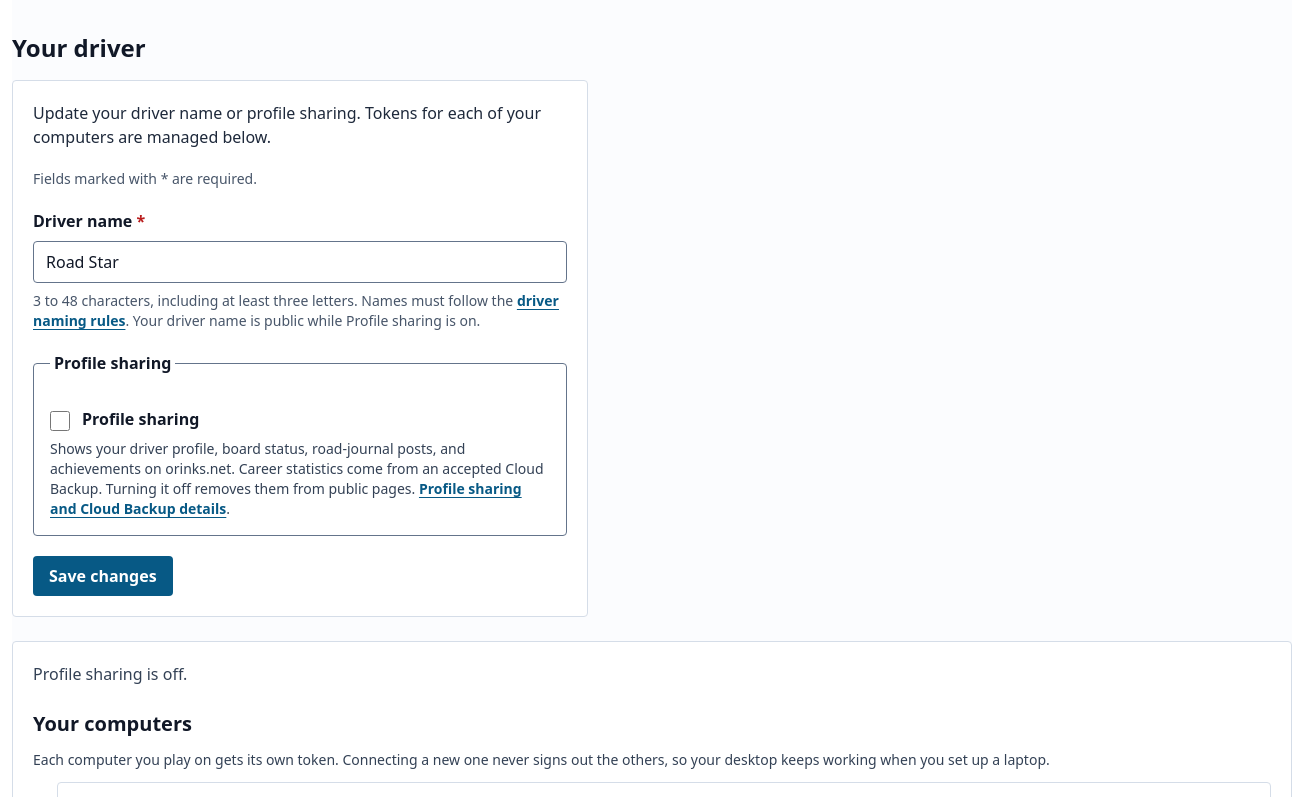
Test: name and sharing controls stay frozen until an unresolved save finishes
The image size is (1292, 797).
Click the checkbox labelled "Profile sharing" at (60, 421), box [50, 411, 70, 431]
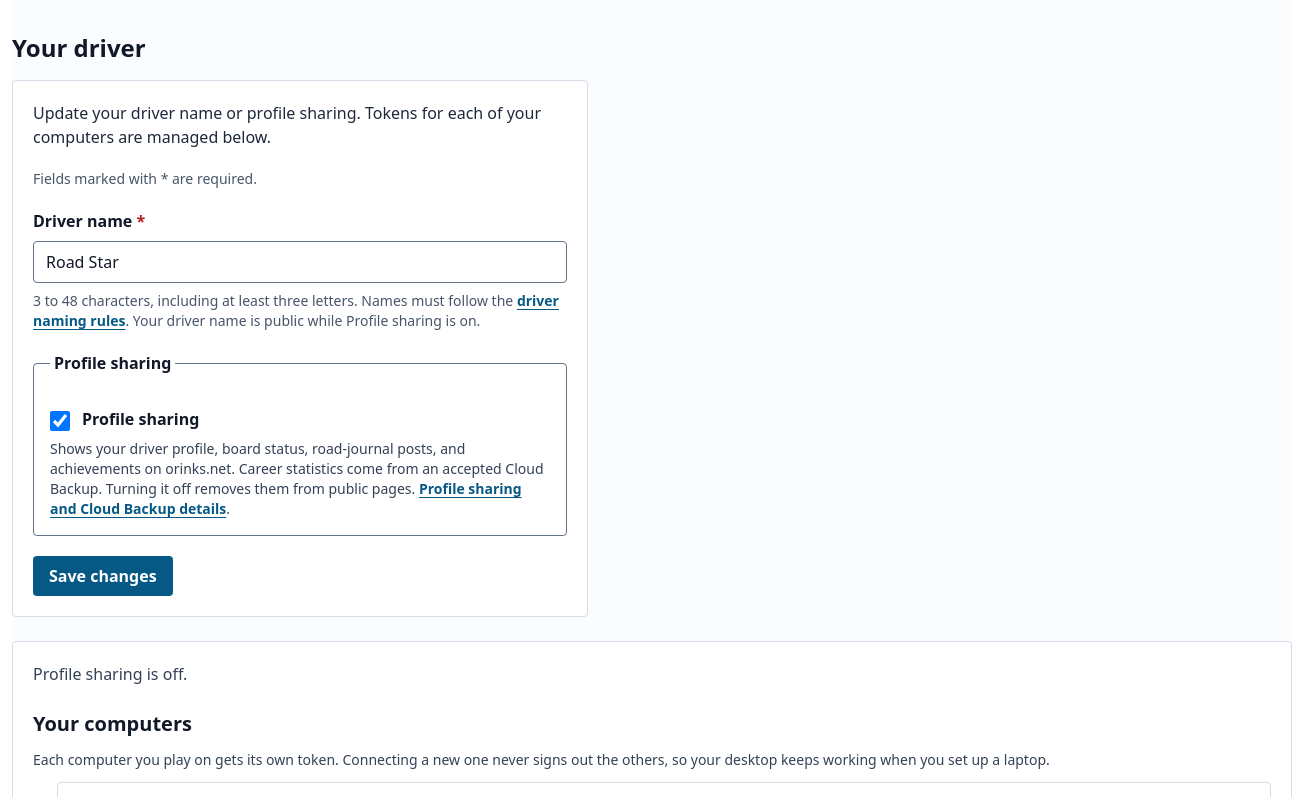
Click the button "Save changes" at (103, 576), box [33, 556, 173, 596]
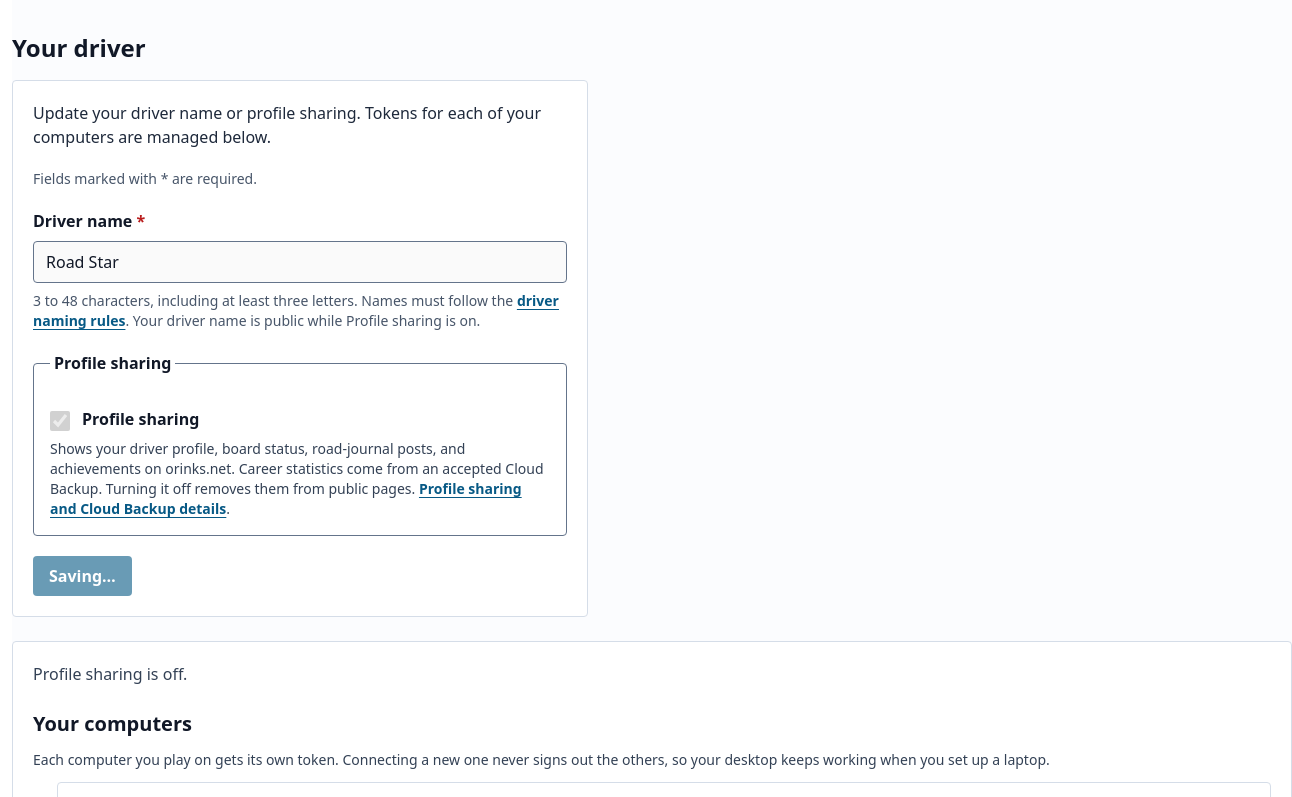
Expected: the field labelled "Driver name *" is disabled, [33, 241, 567, 283]
Expected: the checkbox labelled "Profile sharing" is disabled
Click the checkbox labelled "Profile sharing" at (60, 421), box [50, 411, 70, 431]
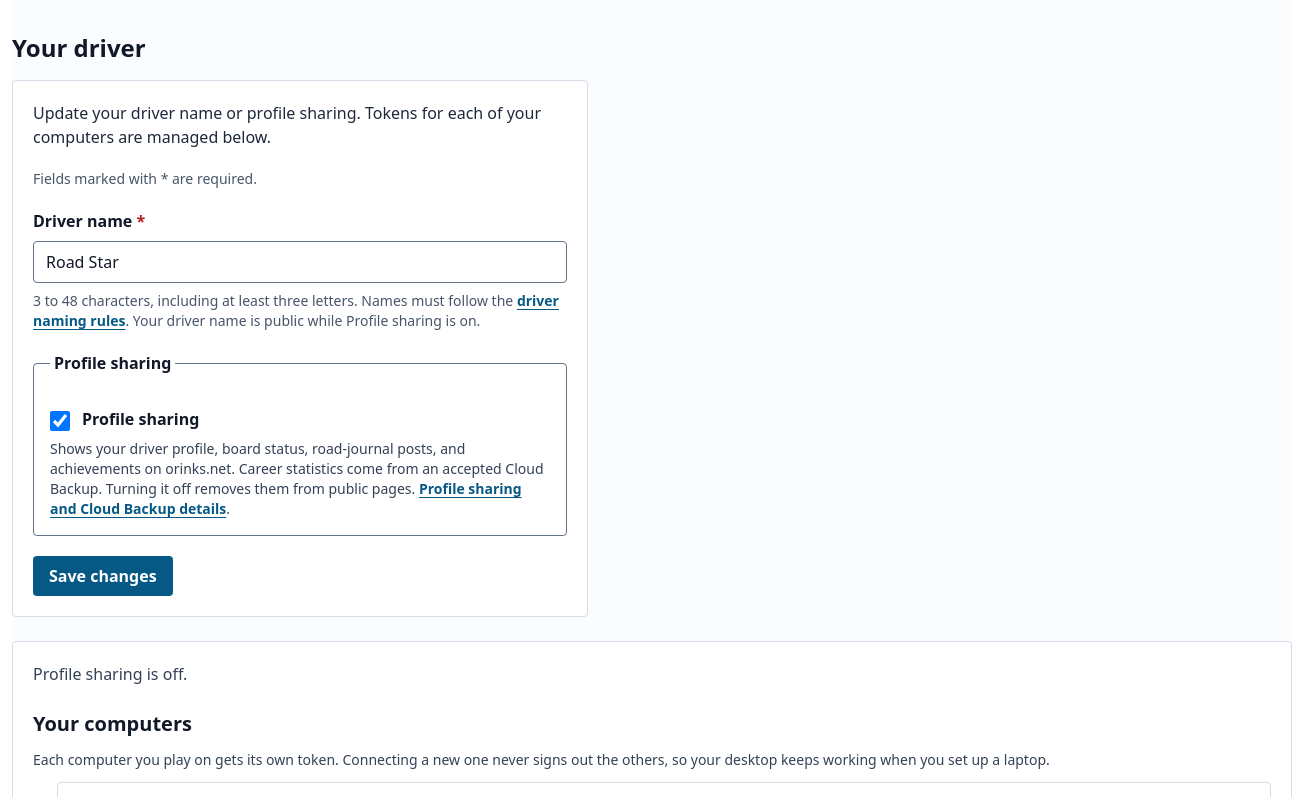
Expected: the field labelled "Driver name *" is enabled, [33, 241, 567, 283]
Expected: the checkbox labelled "Profile sharing" is checked, [50, 411, 70, 431]
Expected: the checkbox labelled "Profile sharing" is enabled, [50, 411, 70, 431]
